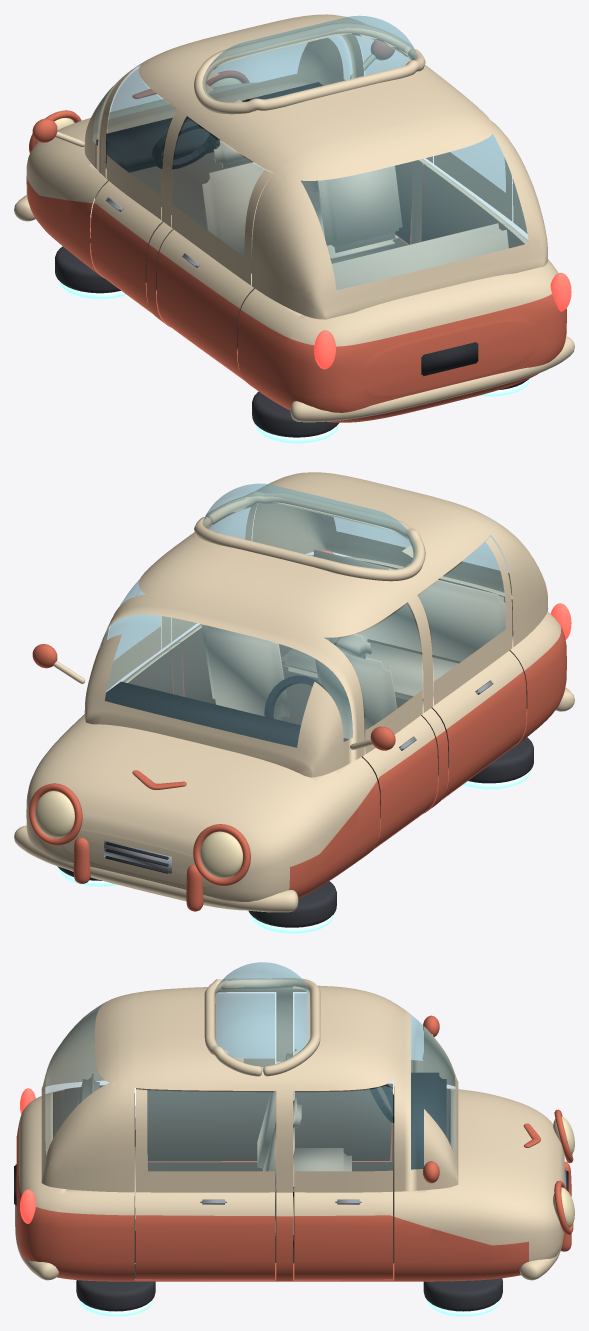
File: Carro_Civil.fbx
The picture shows the model from 3 angles, top to bottom: view 1: azimuth 30°, elevation 25°; view 2: azimuth 150°, elevation 25°; view 3: azimuth 270°, elevation 25°; orthographic projection. The views are drawn at different scales.
Visible parts, largest first — view 1: Carroceria, Porta_ET, Porta_EF, Porta_DT, Parachoque_Tras, Porta_DF, Disco_ET, Disco_EF, Espelho_E; view 2: Carroceria, Porta_ET, Porta_EF, Porta_DF, Porta_DT, Parachoque_Frente, Disco_EF, Disco_ET, Espelho_D, Espelho_E; view 3: Carroceria, Porta_DT, Porta_DF, Porta_ET, Porta_EF, Disco_DF, Disco_DT, Parachoque_Tras, Parachoque_Frente.
Part boxes in pixels (x1,y1,x2,y2): Carroceria: (26, 14, 571, 422); Porta_ET: (156, 118, 273, 379); Porta_EF: (90, 69, 175, 312); Porta_DT: (421, 134, 514, 241); Parachoque_Tras: (290, 336, 574, 422); Porta_DF: (356, 36, 427, 244); Disco_ET: (252, 391, 339, 443); Disco_EF: (55, 238, 126, 299); Espelho_E: (32, 118, 85, 146); Carroceria: (26, 472, 571, 911); Porta_ET: (418, 537, 526, 798); Porta_EF: (335, 604, 437, 848); Porta_DF: (106, 579, 172, 693); Porta_DT: (165, 503, 257, 704); Parachoque_Frente: (14, 825, 298, 912); Disco_EF: (248, 881, 336, 933); Disco_ET: (462, 737, 533, 789); Espelho_D: (32, 644, 85, 683); Espelho_E: (350, 726, 395, 750); Carroceria: (14, 962, 574, 1281); Porta_DT: (136, 1089, 274, 1279); Porta_DF: (293, 1086, 392, 1279); Porta_ET: (136, 993, 274, 1162); Porta_EF: (294, 993, 392, 1161); Disco_DF: (423, 1278, 502, 1316); Disco_DT: (76, 1264, 155, 1316); Parachoque_Tras: (15, 1205, 58, 1280); Parachoque_Frente: (519, 1243, 562, 1280).
Bounding box in the file's own units: 2.18 × 1.77 × 3.33.
